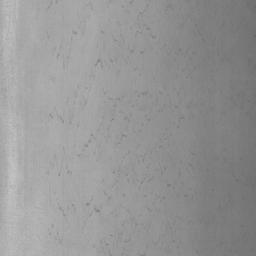Silk spot: (82, 134, 96, 151), (94, 58, 103, 68)
